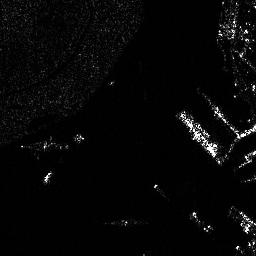ship: (182, 110, 211, 138)
